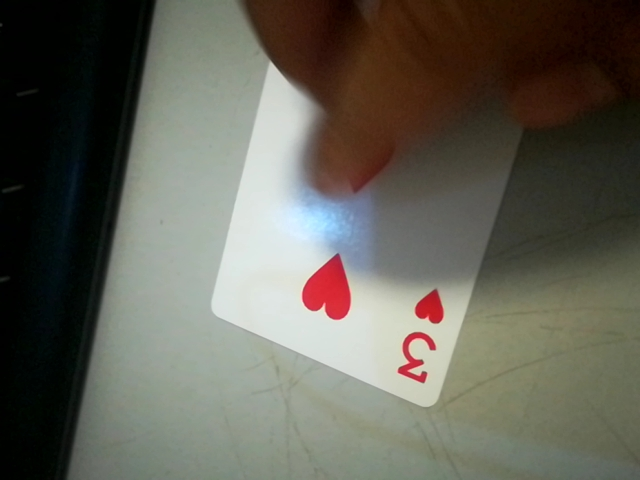hx 3: (389, 281, 455, 392)
